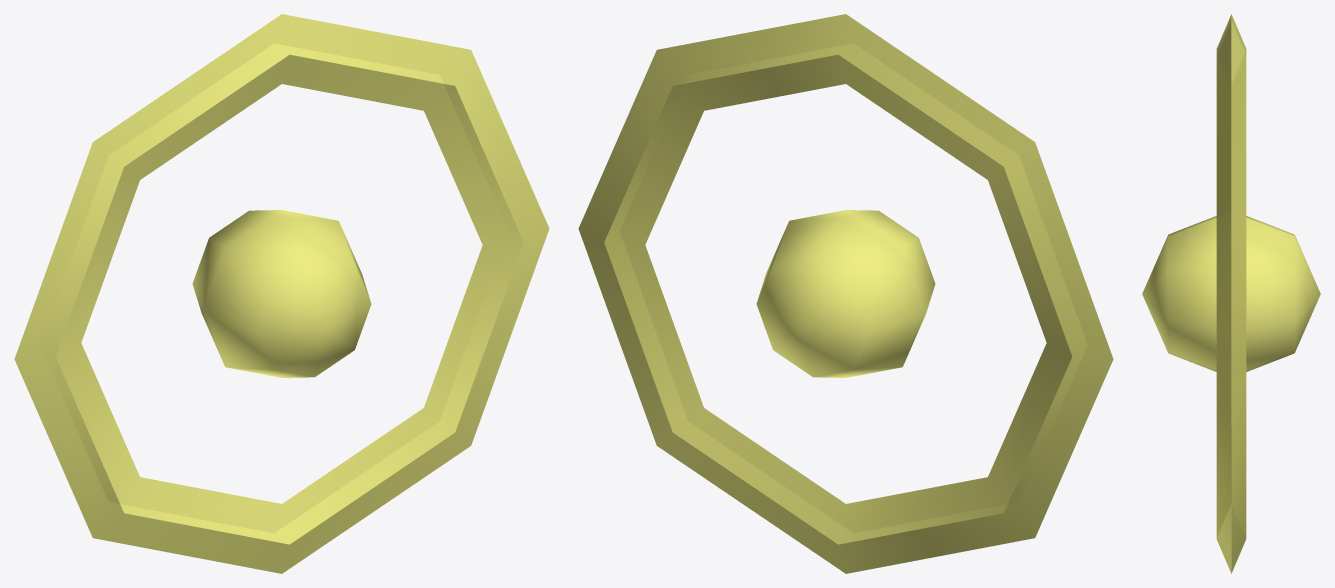
The model's file is BlastBullet.FBX.
3 views of the same model, side by side, from view 1: azimuth 30°, elevation 25°; view 2: azimuth 150°, elevation 25°; view 3: azimuth 270°, elevation 25° (orthographic). The views are drawn at different scales.
Visible parts, largest first — view 1: Ring, Core; view 2: Ring, Core; view 3: Core, Ring.
Boxes of the visible parts, x1,y1,x2,y2 form: Ring: [14, 14, 549, 573]; Core: [192, 210, 371, 377]; Ring: [578, 14, 1113, 573]; Core: [756, 210, 935, 377]; Core: [1142, 216, 1320, 371]; Ring: [1216, 14, 1246, 573].
Size of the model in its own units: 20 by 20 by 6.
